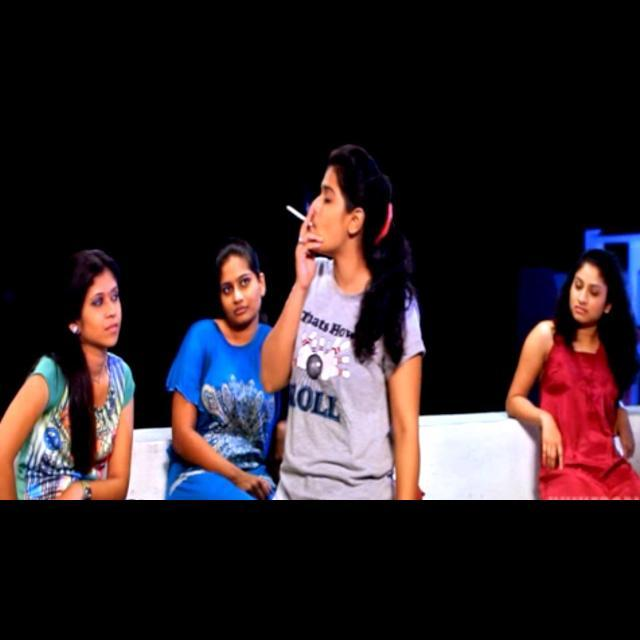rokok: (284, 198, 312, 226)
